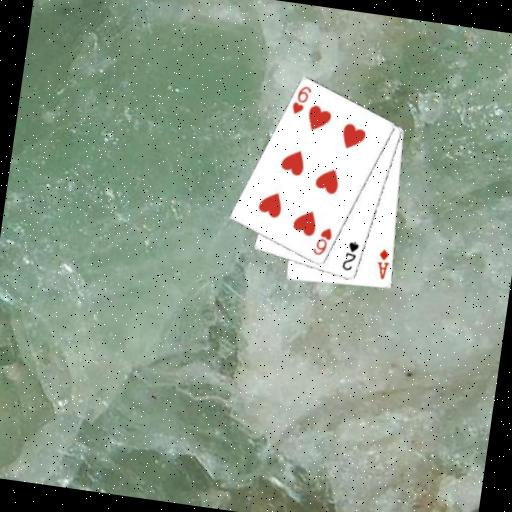2S: (339, 237, 362, 274)
6H: (288, 82, 314, 118), (309, 224, 335, 259)
AD: (373, 246, 393, 281)
